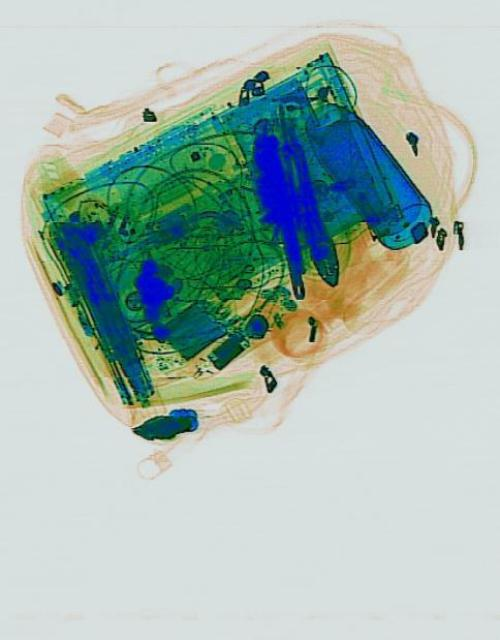Pliers: (262, 136, 349, 294)
